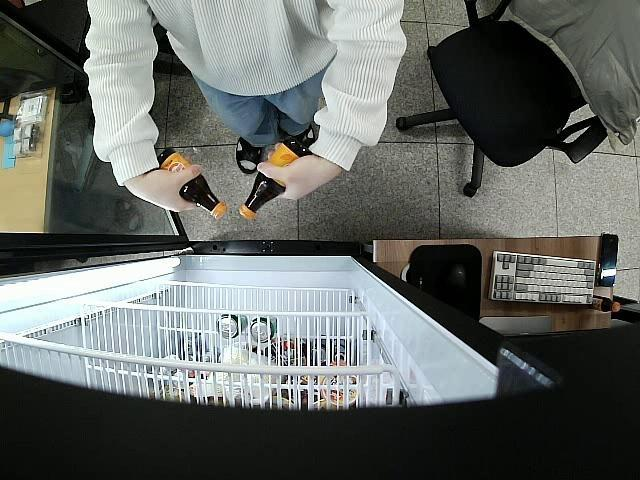17_vita500: (240, 138, 307, 222), (158, 146, 226, 219)
